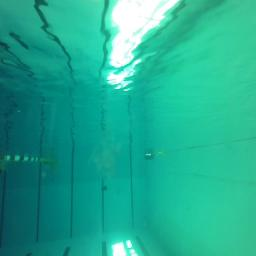Full: (102, 186, 107, 190)
front: (144, 151, 154, 158)
